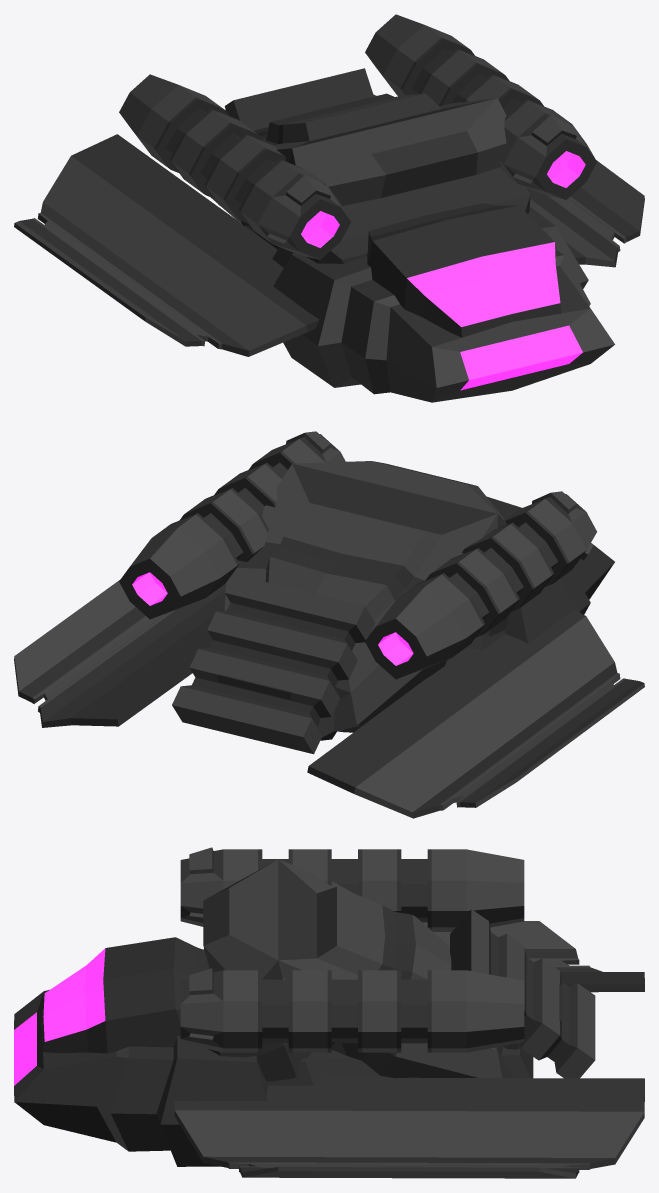
Rendered from spaceship 4 black.fbx.
The picture shows the model from 3 angles, top to bottom: view 1: azimuth 30°, elevation 25°; view 2: azimuth 150°, elevation 25°; view 3: azimuth 270°, elevation 25°; orthographic projection.
Visible parts, largest first — view 1: Cube.023; view 2: Cube.023; view 3: Cube.023.
Boxes of the visible parts, x1,y1,x2,y2 form: Cube.023: (14,14,644,402); Cube.023: (14,431,644,818); Cube.023: (14,847,644,1178).
Size of the model in its own units: 591 by 242 by 638.
